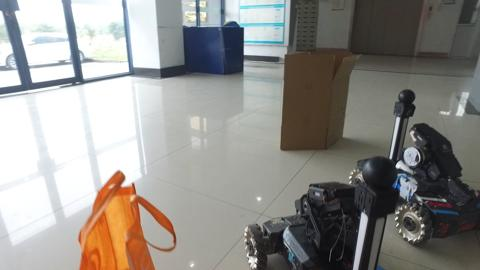box: (285, 43, 350, 152)
chariot: (239, 148, 399, 270), (358, 87, 478, 245)
